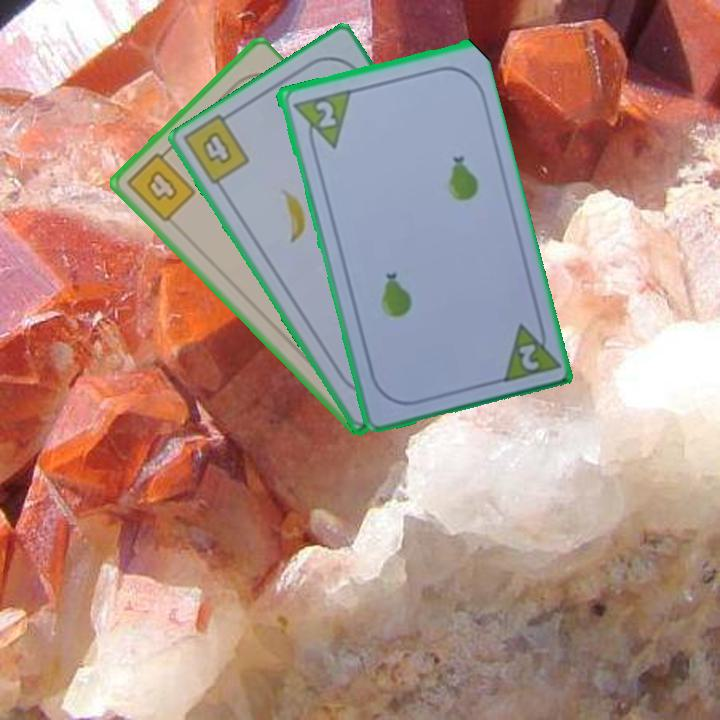2p: (496, 313, 561, 386), (288, 85, 353, 155)
4b: (122, 143, 198, 225), (198, 127, 235, 167)
